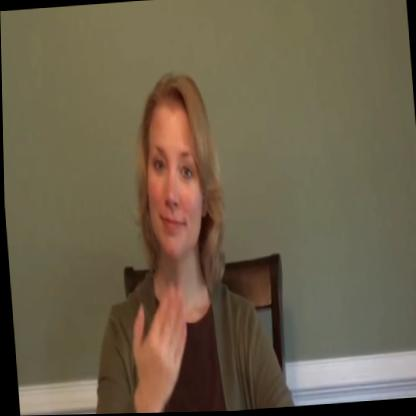ThankYou: (77, 62, 274, 415)
